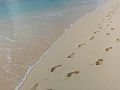human_footprint: (67, 71, 79, 76), (51, 65, 61, 71), (30, 83, 38, 89), (95, 59, 103, 64), (67, 52, 74, 57), (78, 43, 86, 47), (105, 47, 111, 51)
